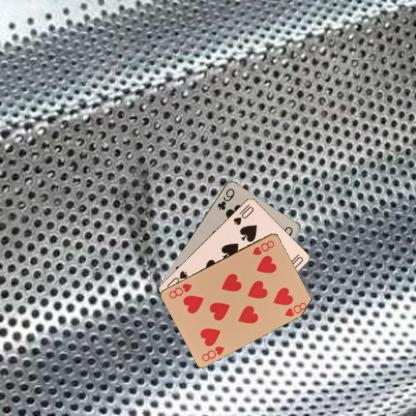10s: (230, 204, 255, 226)
8h: (199, 343, 226, 362), (250, 237, 276, 256)
9c: (214, 185, 236, 211)
